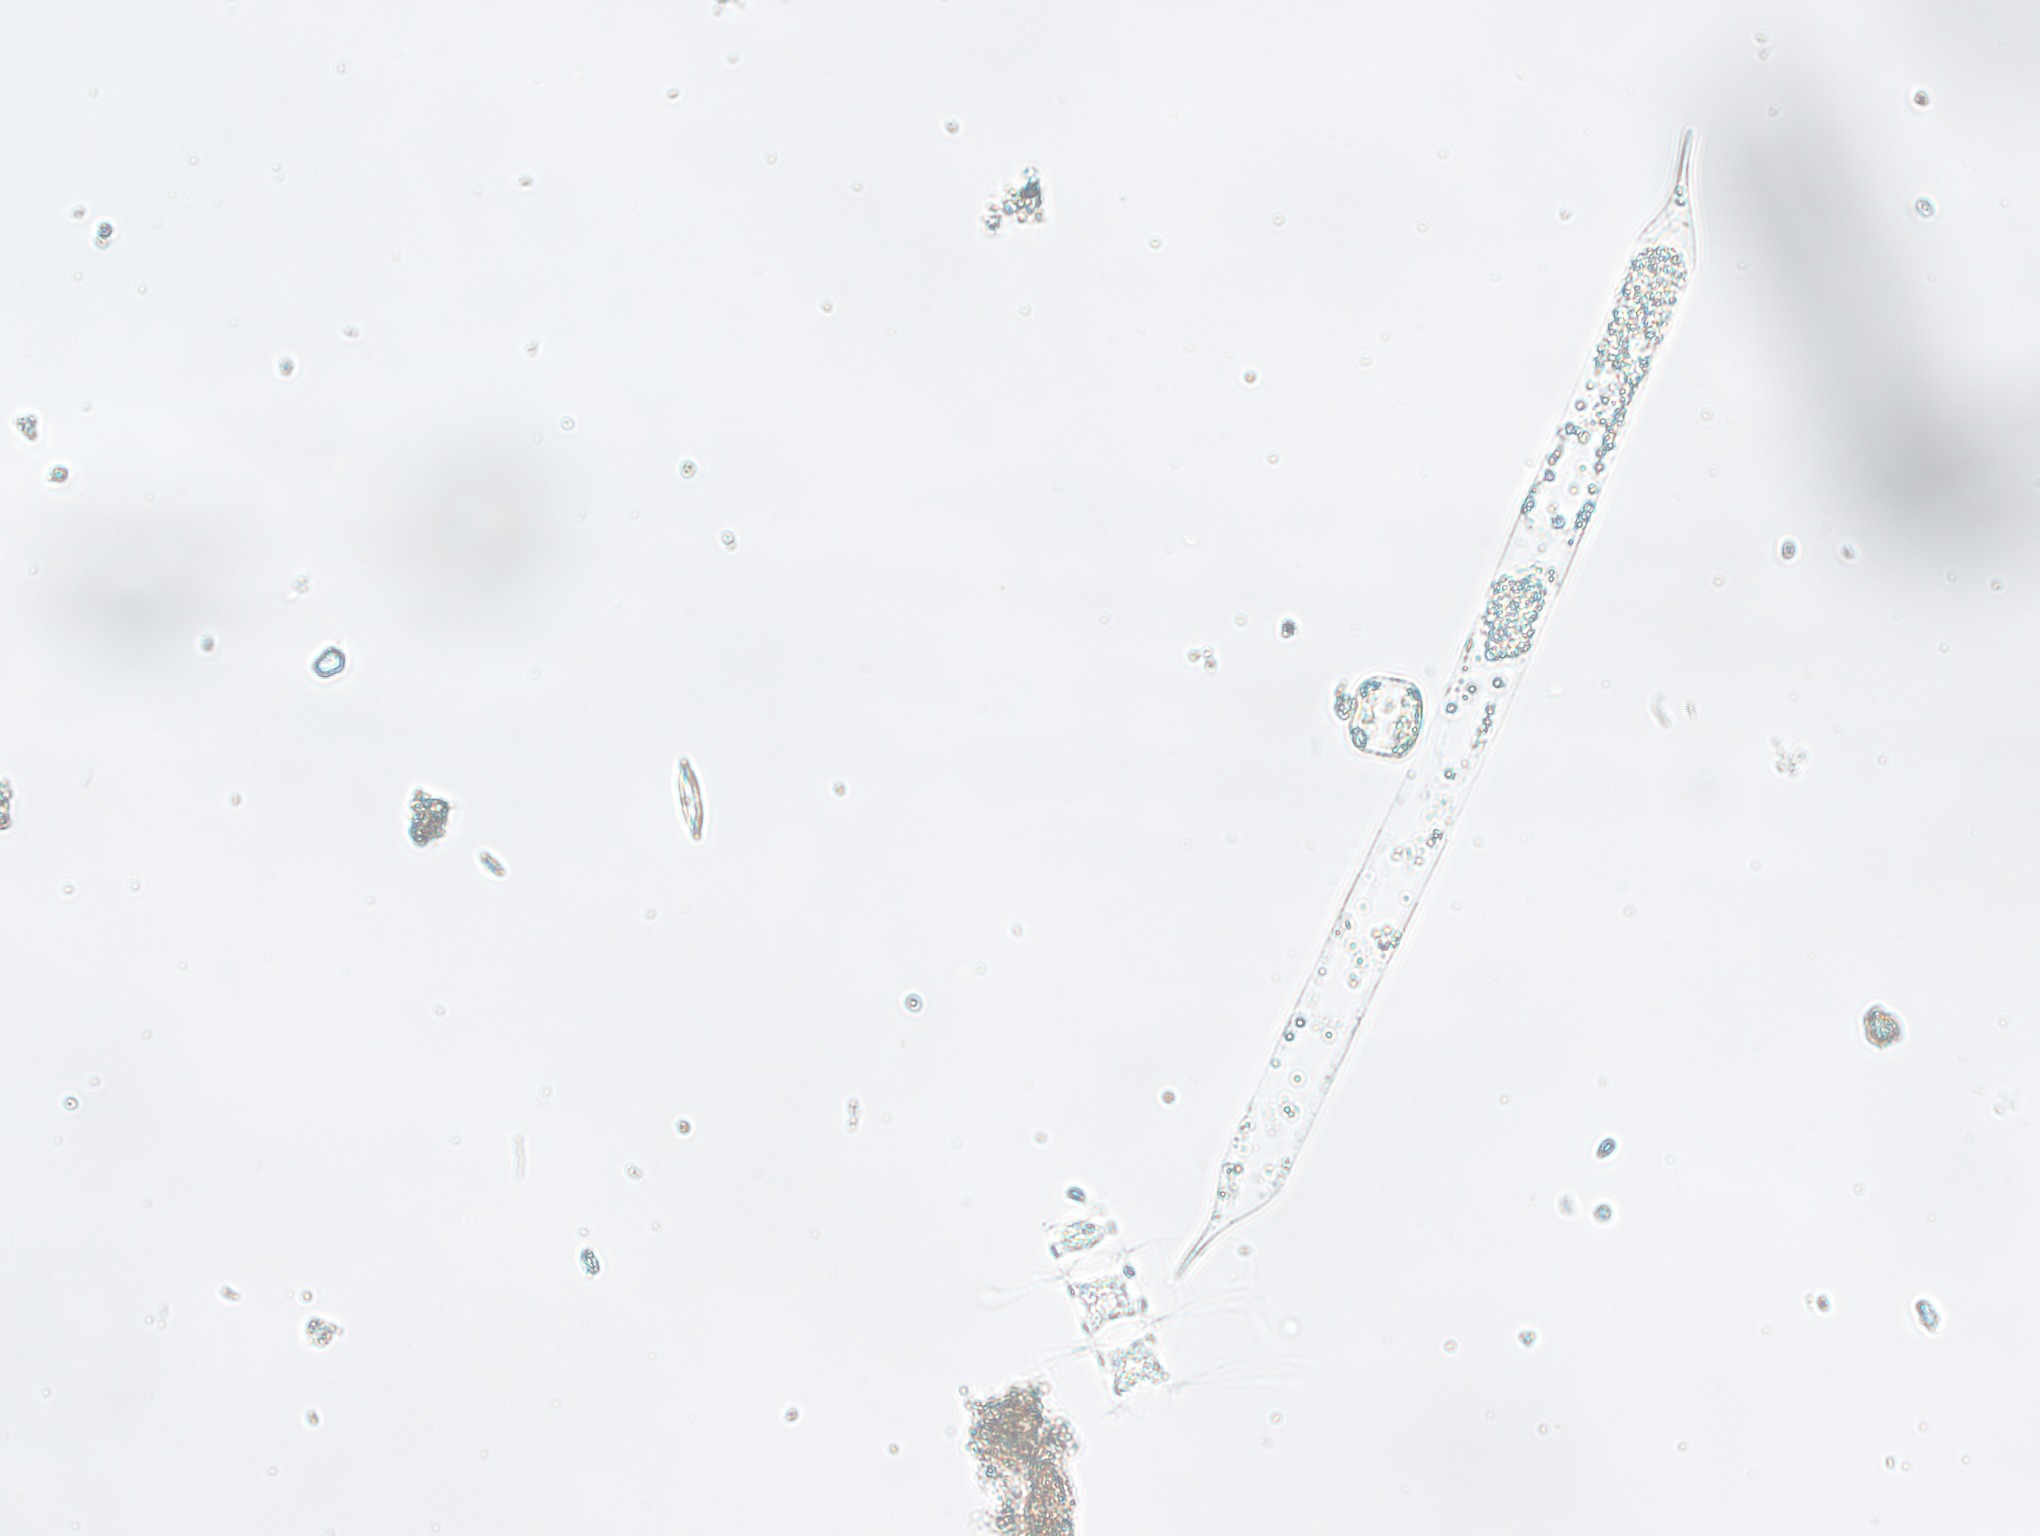rhizosolenia: (1135, 94, 1750, 1317)
